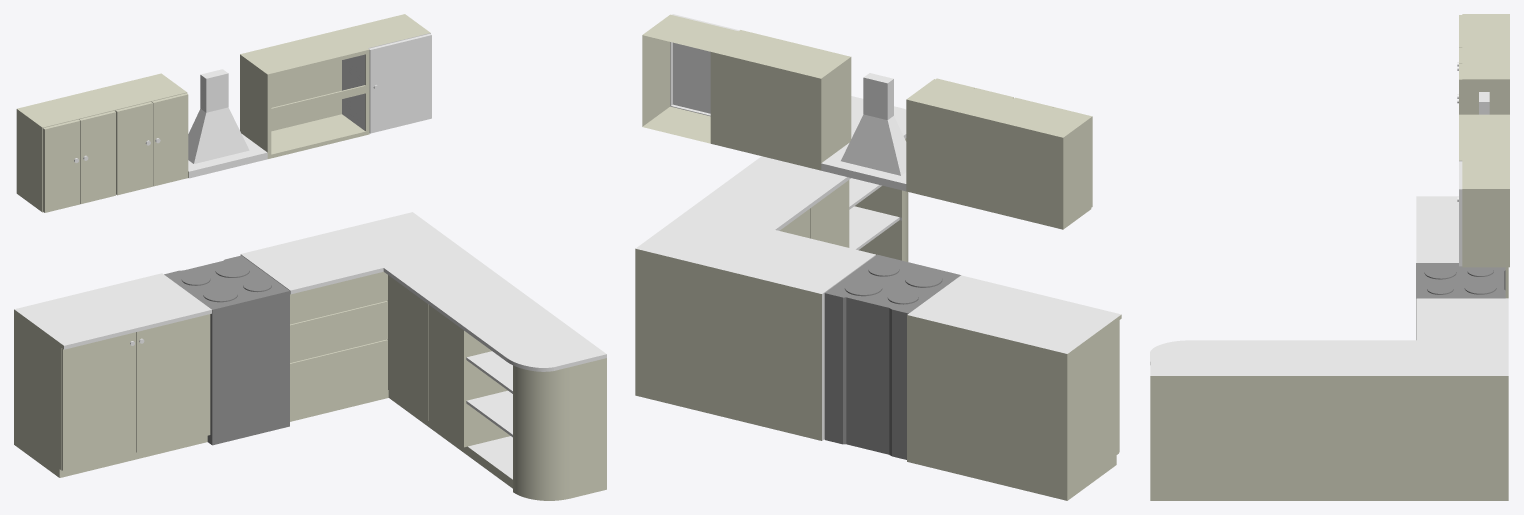
Rendered from armario.glb.
The picture shows the model from 3 angles, left to right: view 1: azimuth 30°, elevation 25°; view 2: azimuth 150°, elevation 25°; view 3: azimuth 270°, elevation 25°; orthographic projection. The views are drawn at different scales.
Parts seen in each view (by area): view 1: Armario; view 2: Armario; view 3: Armario.
Boxes of the visible parts, x1=… form: Armario: x1=14, y1=14, x2=606, y2=500; Armario: x1=635, y1=14, x2=1121, y2=500; Armario: x1=1150, y1=14, x2=1509, y2=500.
Size of what is drawn, in the model's own units: 2.37 by 1.9 by 2.01.
